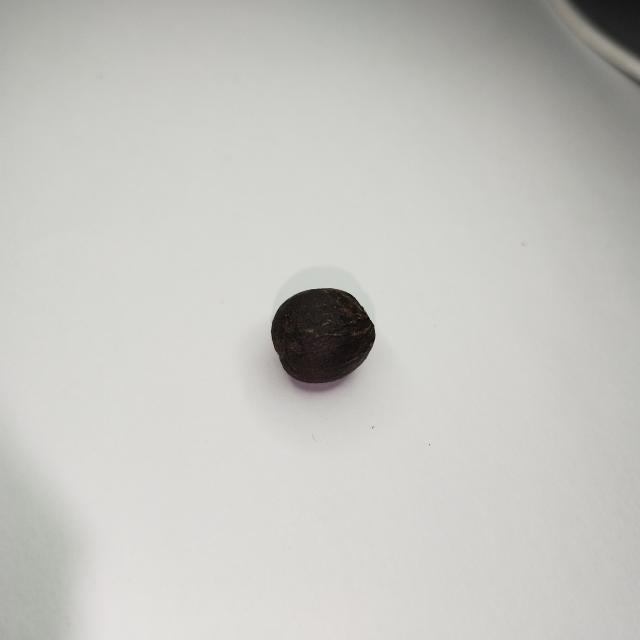Danado: (272, 289, 375, 383)
